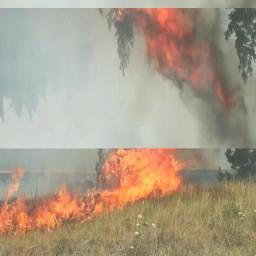Heavy smoke: (118, 7, 256, 148)
Medium fire: (0, 148, 198, 238)
